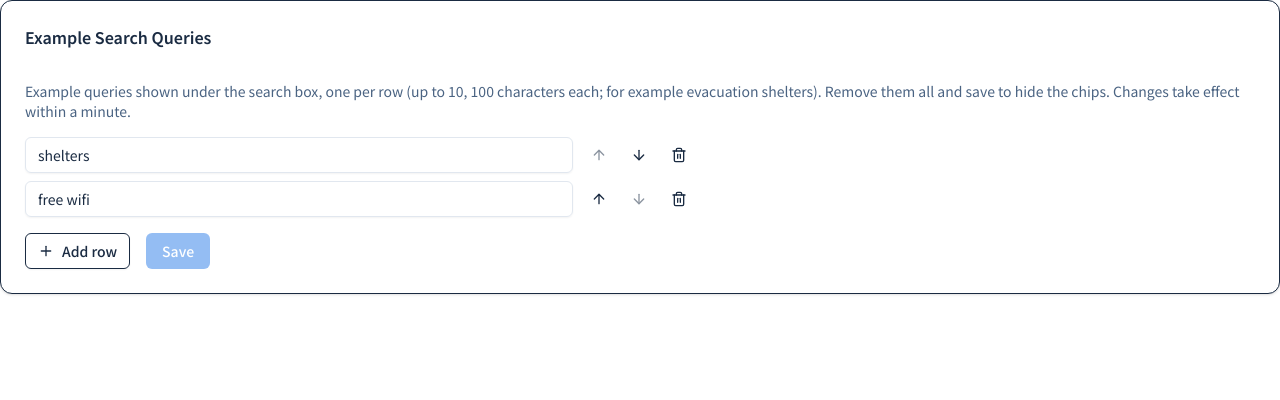
SearchExamplesCard › should save the rows reordered, trimmed and without blank ones
Check: the text "Example Search Queries" is shown, box 25,25 -> 211,49
Step 1. Click the button "Add row" → (78, 251), box 25,233 -> 130,269
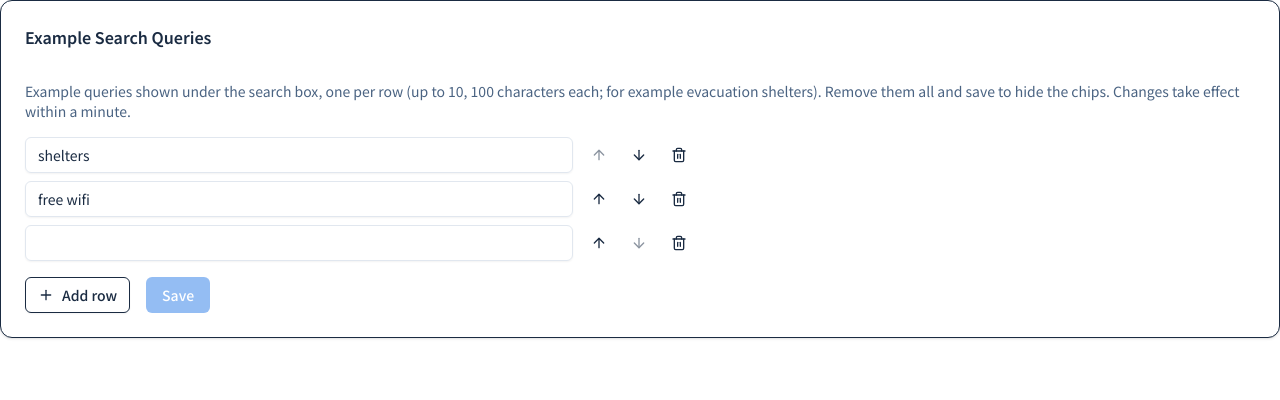
Step 2. Click the button "Add row" → (78, 295), box 25,277 -> 130,313
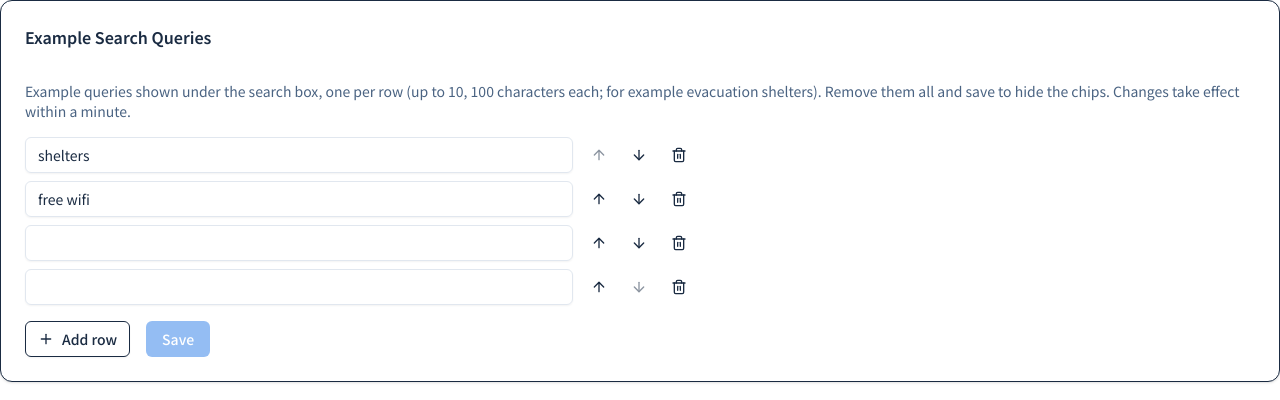
Step 3. Type " parks " into the field named "Example query 4" → (299, 287), box 25,269 -> 573,305
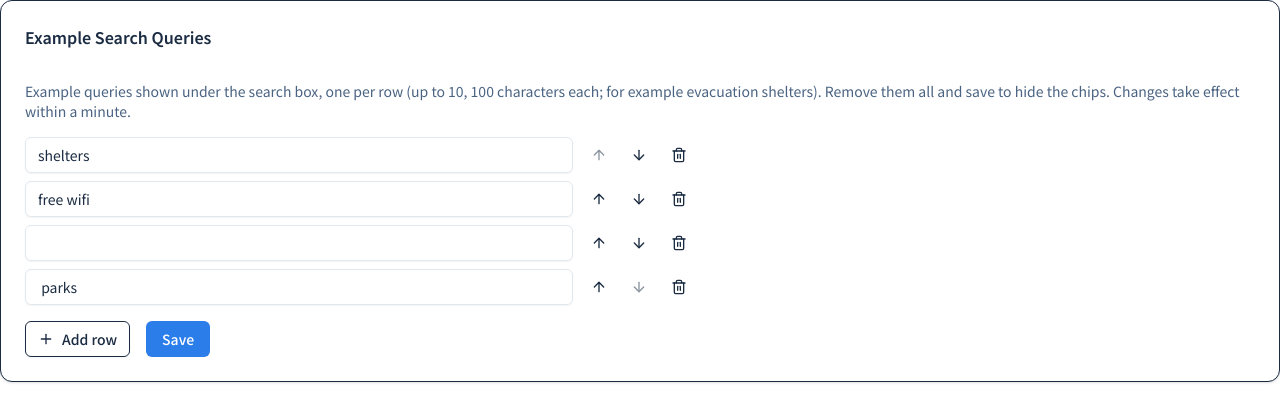
Step 4. Click the 1st button named "Move down" → (639, 155), box 621,137 -> 657,173
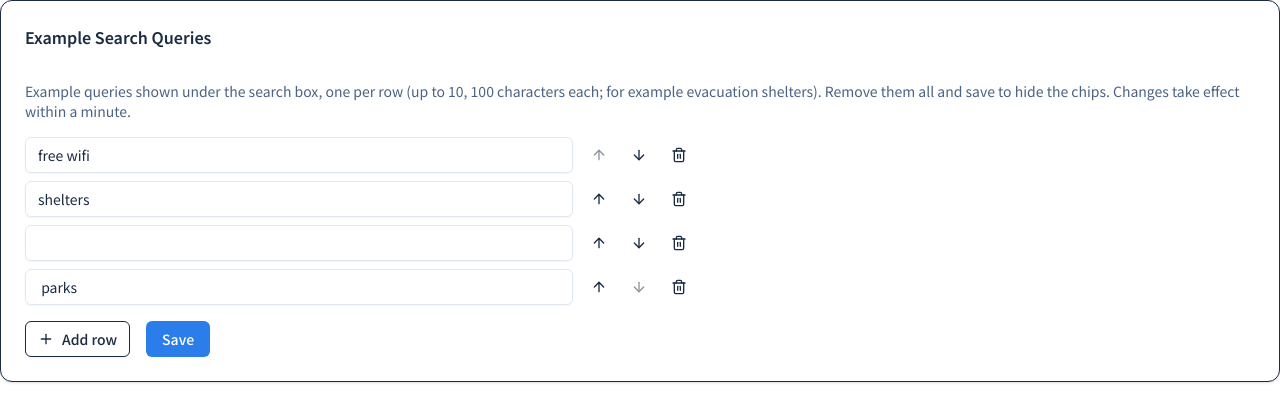
Step 5. Click the button "Save" → (178, 339), box 146,321 -> 210,357
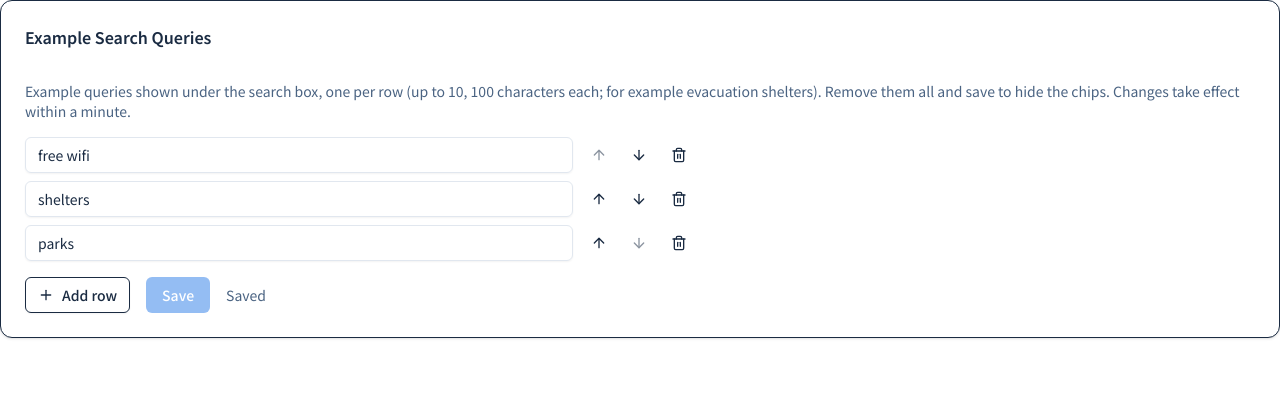
Check: the message "Saved" is shown, box 226,285 -> 266,305
